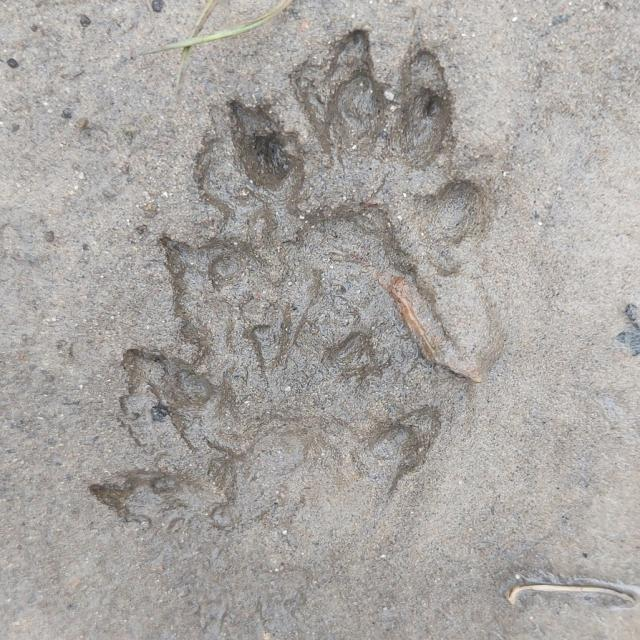mustelid: (100, 309, 446, 576), (208, 34, 492, 306)
